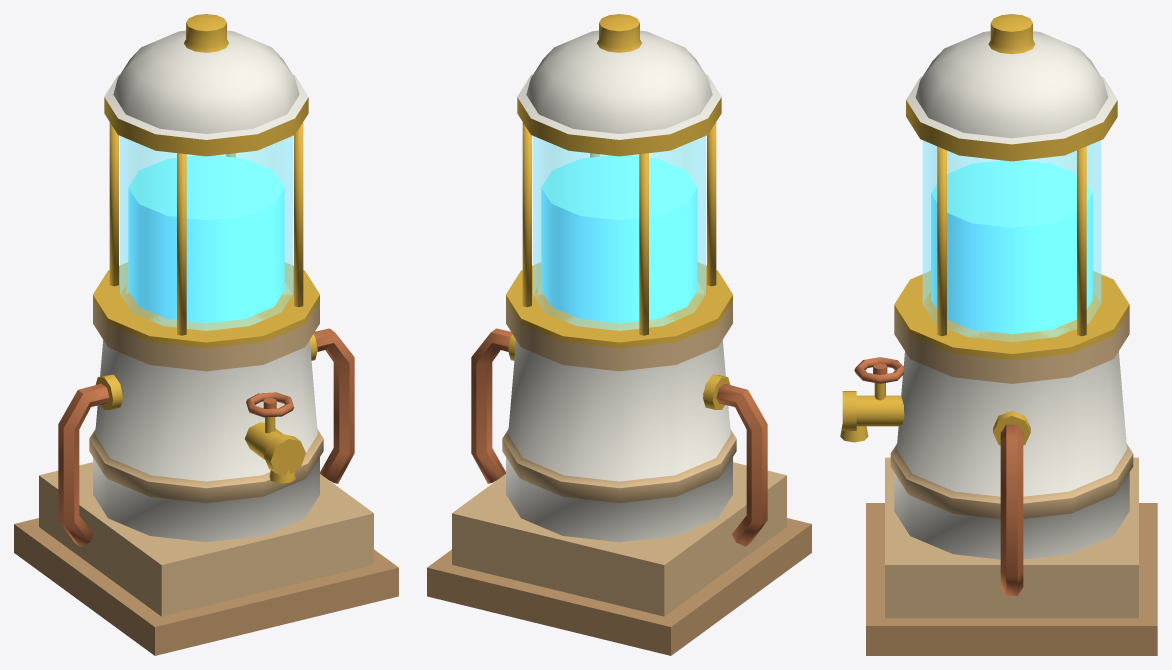
File: water-condenser.lod1.glb
3 renders of one model, left to right at view 1: azimuth 30°, elevation 25°; view 2: azimuth 150°, elevation 25°; view 3: azimuth 270°, elevation 25°, orthographic. The views are drawn at different scales.
Visible parts, largest first — view 1: water-condenser_lod1; view 2: water-condenser_lod1; view 3: water-condenser_lod1.
Part boxes in pixels (<box>): water-condenser_lod1: <box>14,14,398,655</box>; water-condenser_lod1: <box>427,14,811,655</box>; water-condenser_lod1: <box>840,14,1157,655</box>.
Size of the model in its own units: 0.7398 by 1.35 by 0.675.
